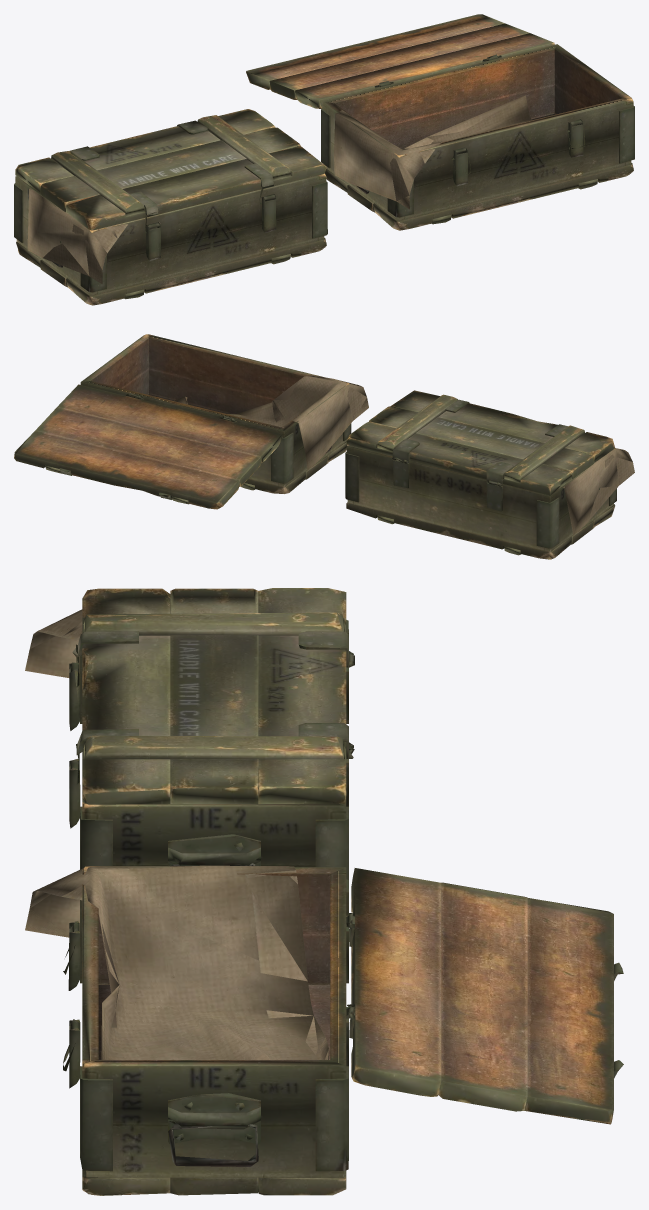
Rendered from glb_mcrate.cc51eb88.glb.
3 renders of one model, top to bottom at view 1: azimuth 30°, elevation 25°; view 2: azimuth 150°, elevation 25°; view 3: azimuth 270°, elevation 25°, orthographic. The views are drawn at different scales.
Visible parts, largest first — view 1: old_military_crate_lid_a; view 2: old_military_crate_lid_a; view 3: old_military_crate_lid_a.
Part boxes in pixels (x1,y1,x2,y2): old_military_crate_lid_a: (14,14,634,305); old_military_crate_lid_a: (14,334,634,559); old_military_crate_lid_a: (25,588,623,1195).
Size of the model in its own units: 1.81 by 0.2983 by 0.9757.
Materials: 1 (1 with a texture image).
